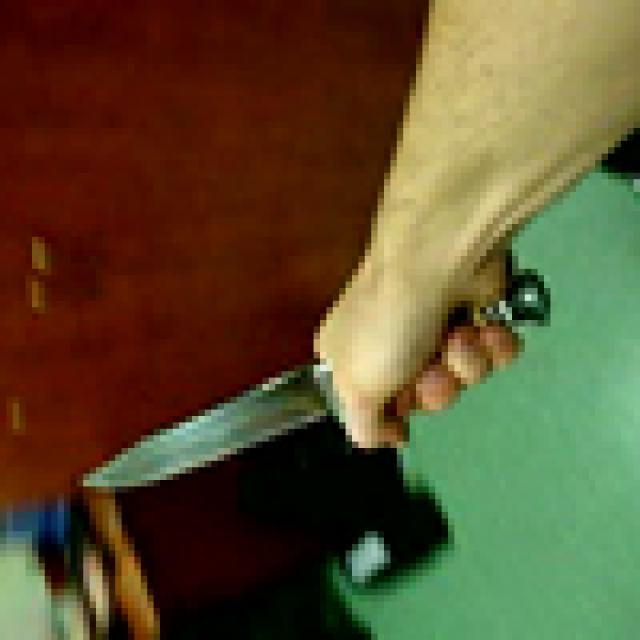Knife: (89, 262, 556, 493)
